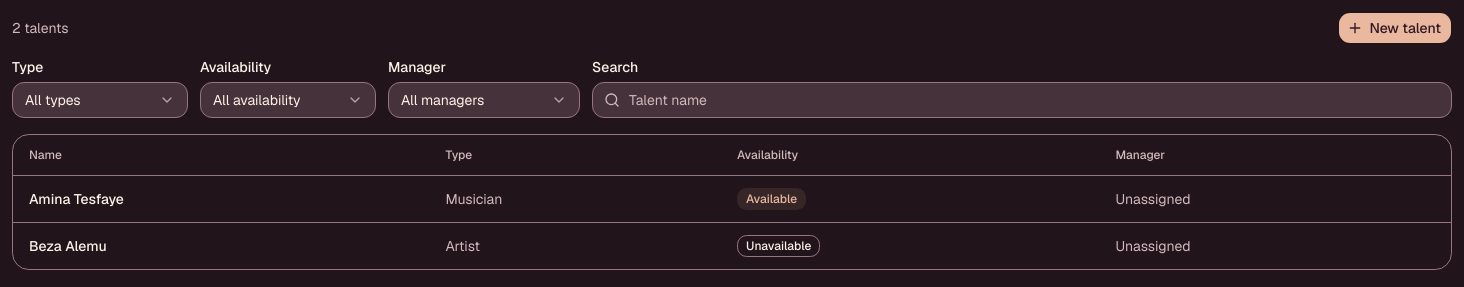
TalentManager filters › debounces the name search and sends the trimmed term
Expected: the text "2 talents" is shown, [12, 18, 69, 38]
Type "  amina " into the search field labelled "Search" at (1022, 100), box [592, 82, 1452, 118]
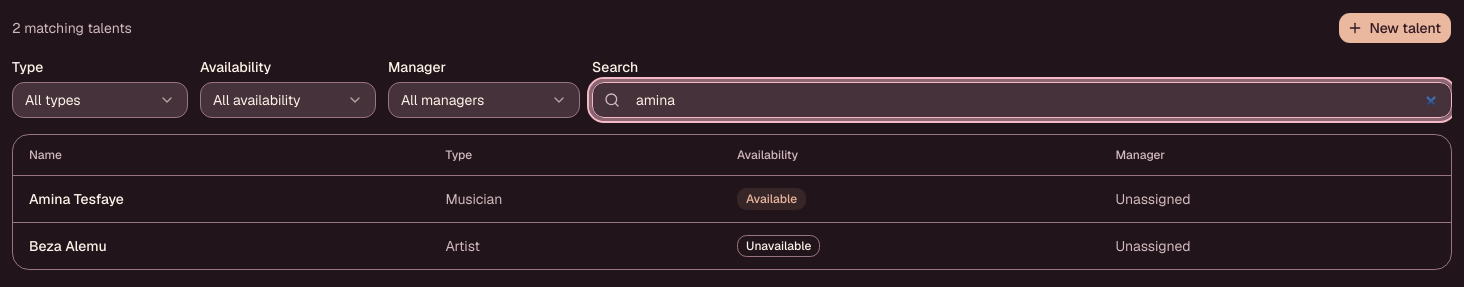
Expected: the text "2 matching talents" is shown, [12, 18, 132, 38]
